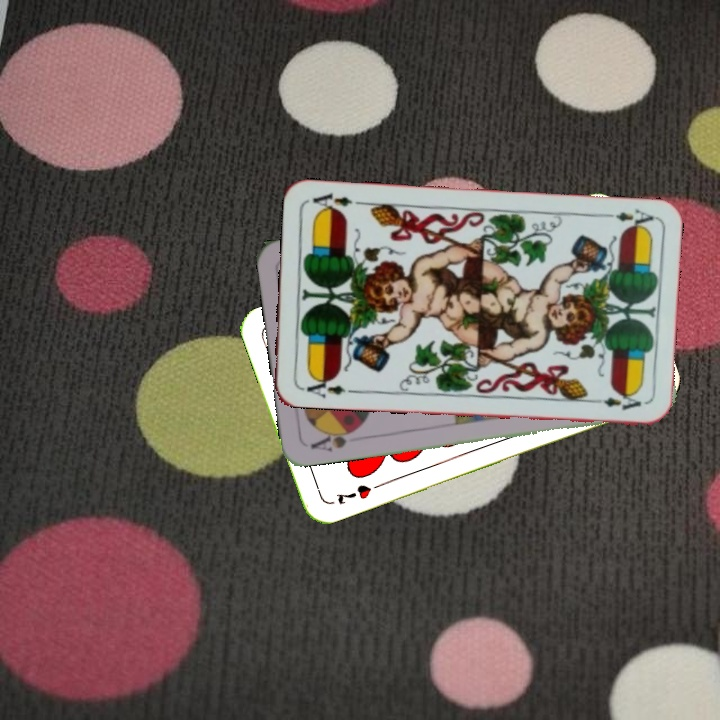EA: (598, 205, 656, 232), (303, 372, 348, 400)
H7: (332, 480, 374, 507)
SA: (306, 423, 363, 455)
